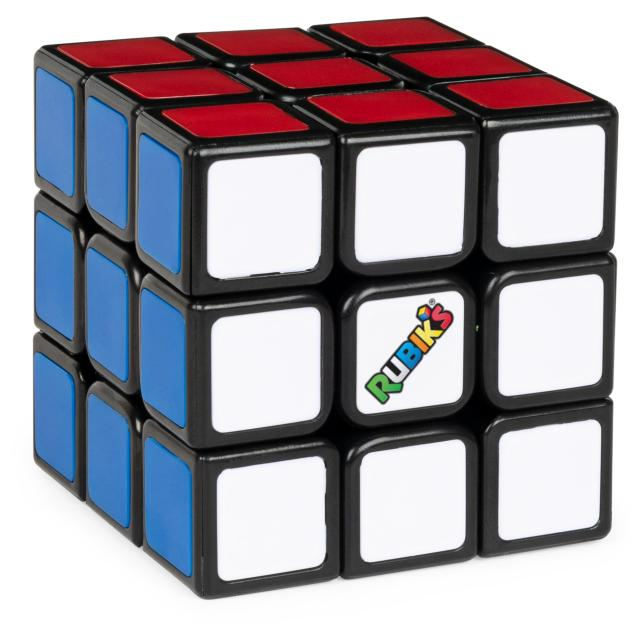Rubiks Cube: (33, 16, 618, 601)
